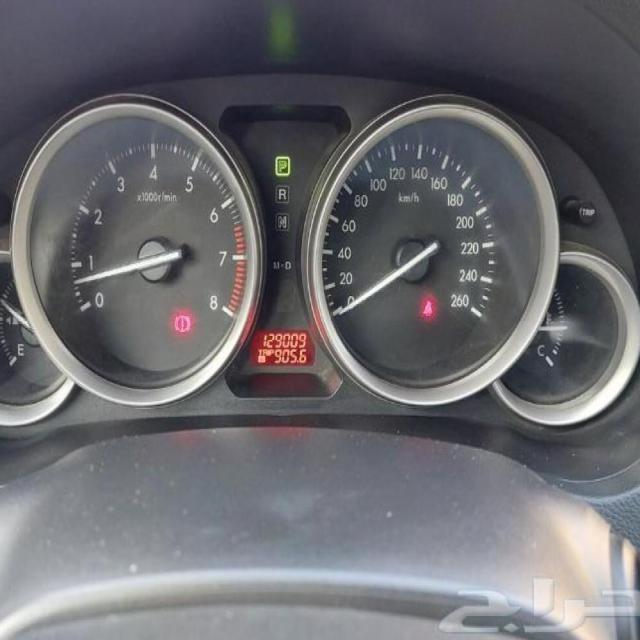Seat Belt: (423, 300, 433, 318)
